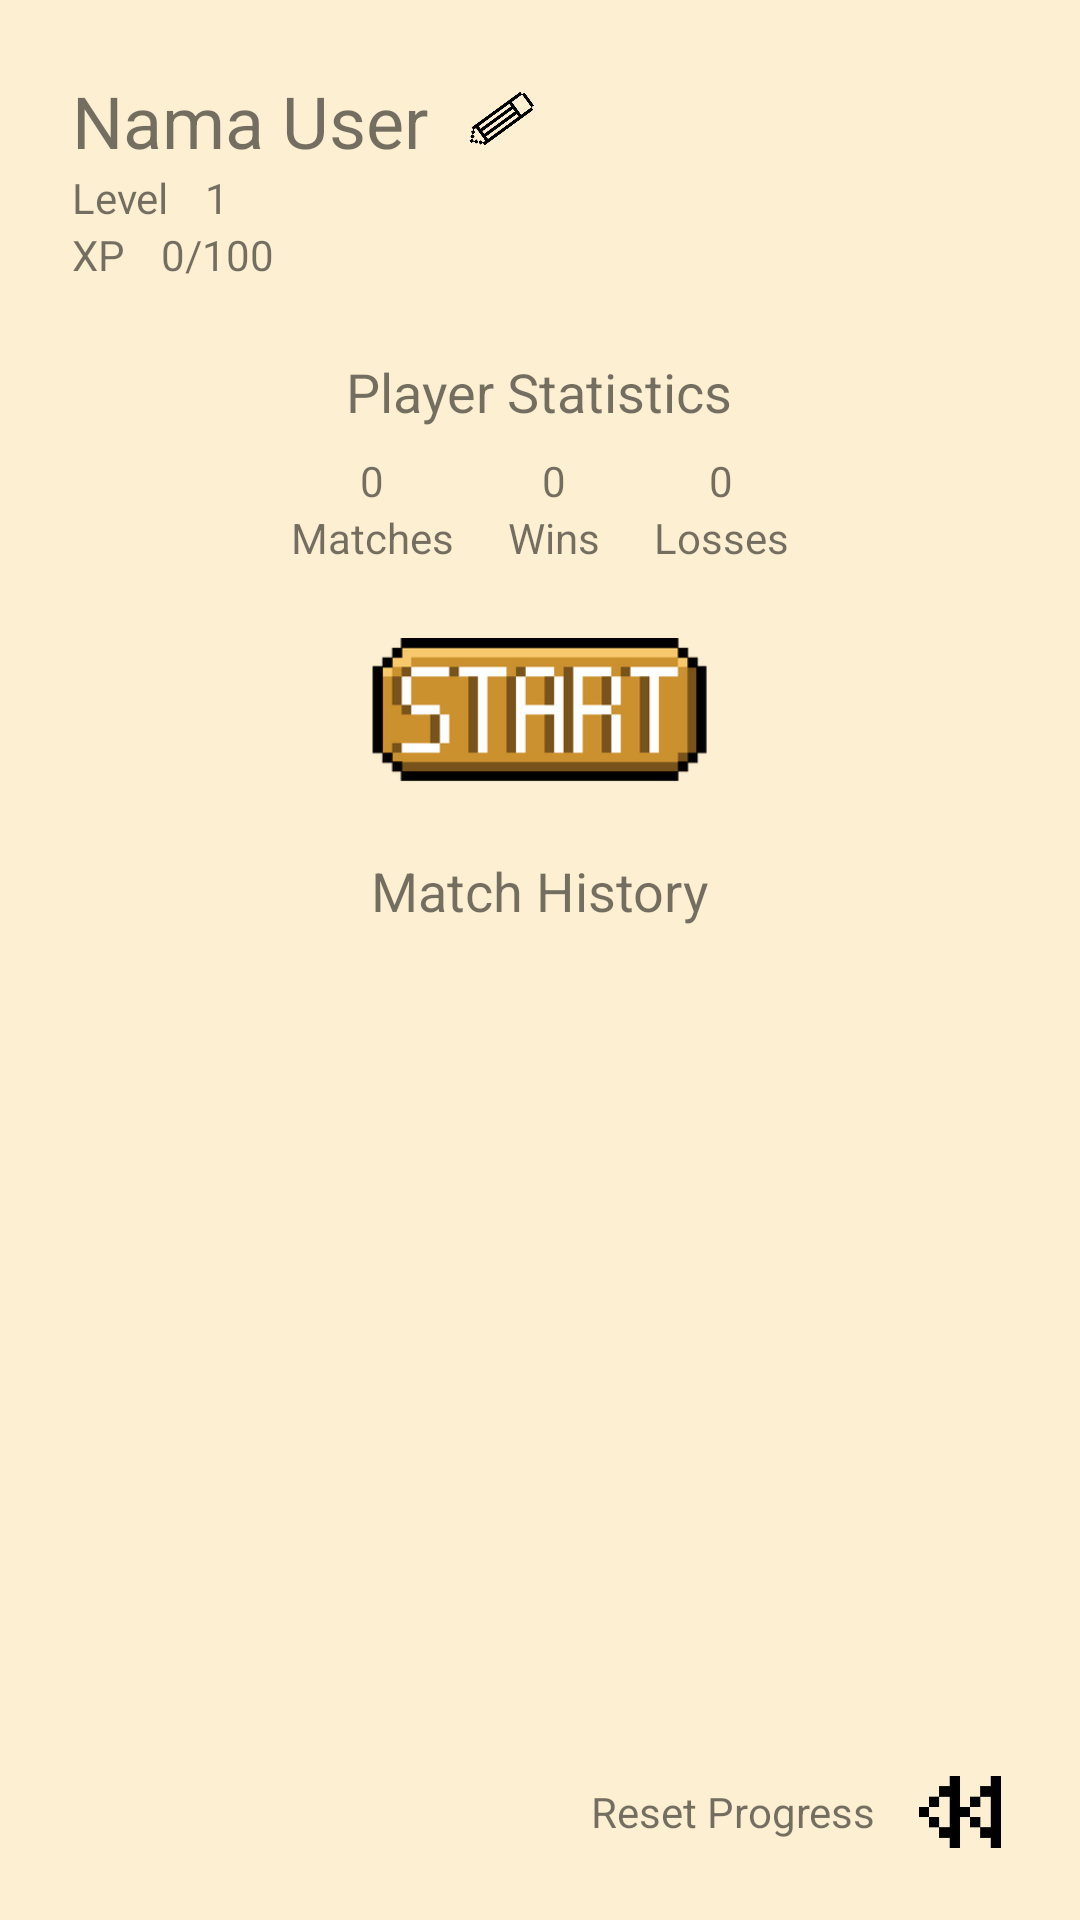

Screen size 1080×1920. Icon name, then its box in pixels as (x1, y1, x2, y2):
edit: (469, 92, 534, 145)
rewind: (919, 1776, 1001, 1848)
